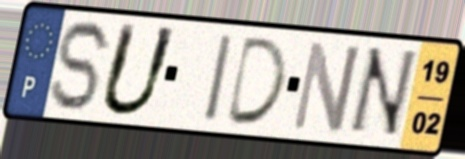D: (222, 34, 291, 128)
I: (201, 30, 236, 126)
N: (343, 45, 421, 141), (288, 37, 364, 135)
S: (47, 17, 117, 114)
U: (95, 19, 181, 120)
